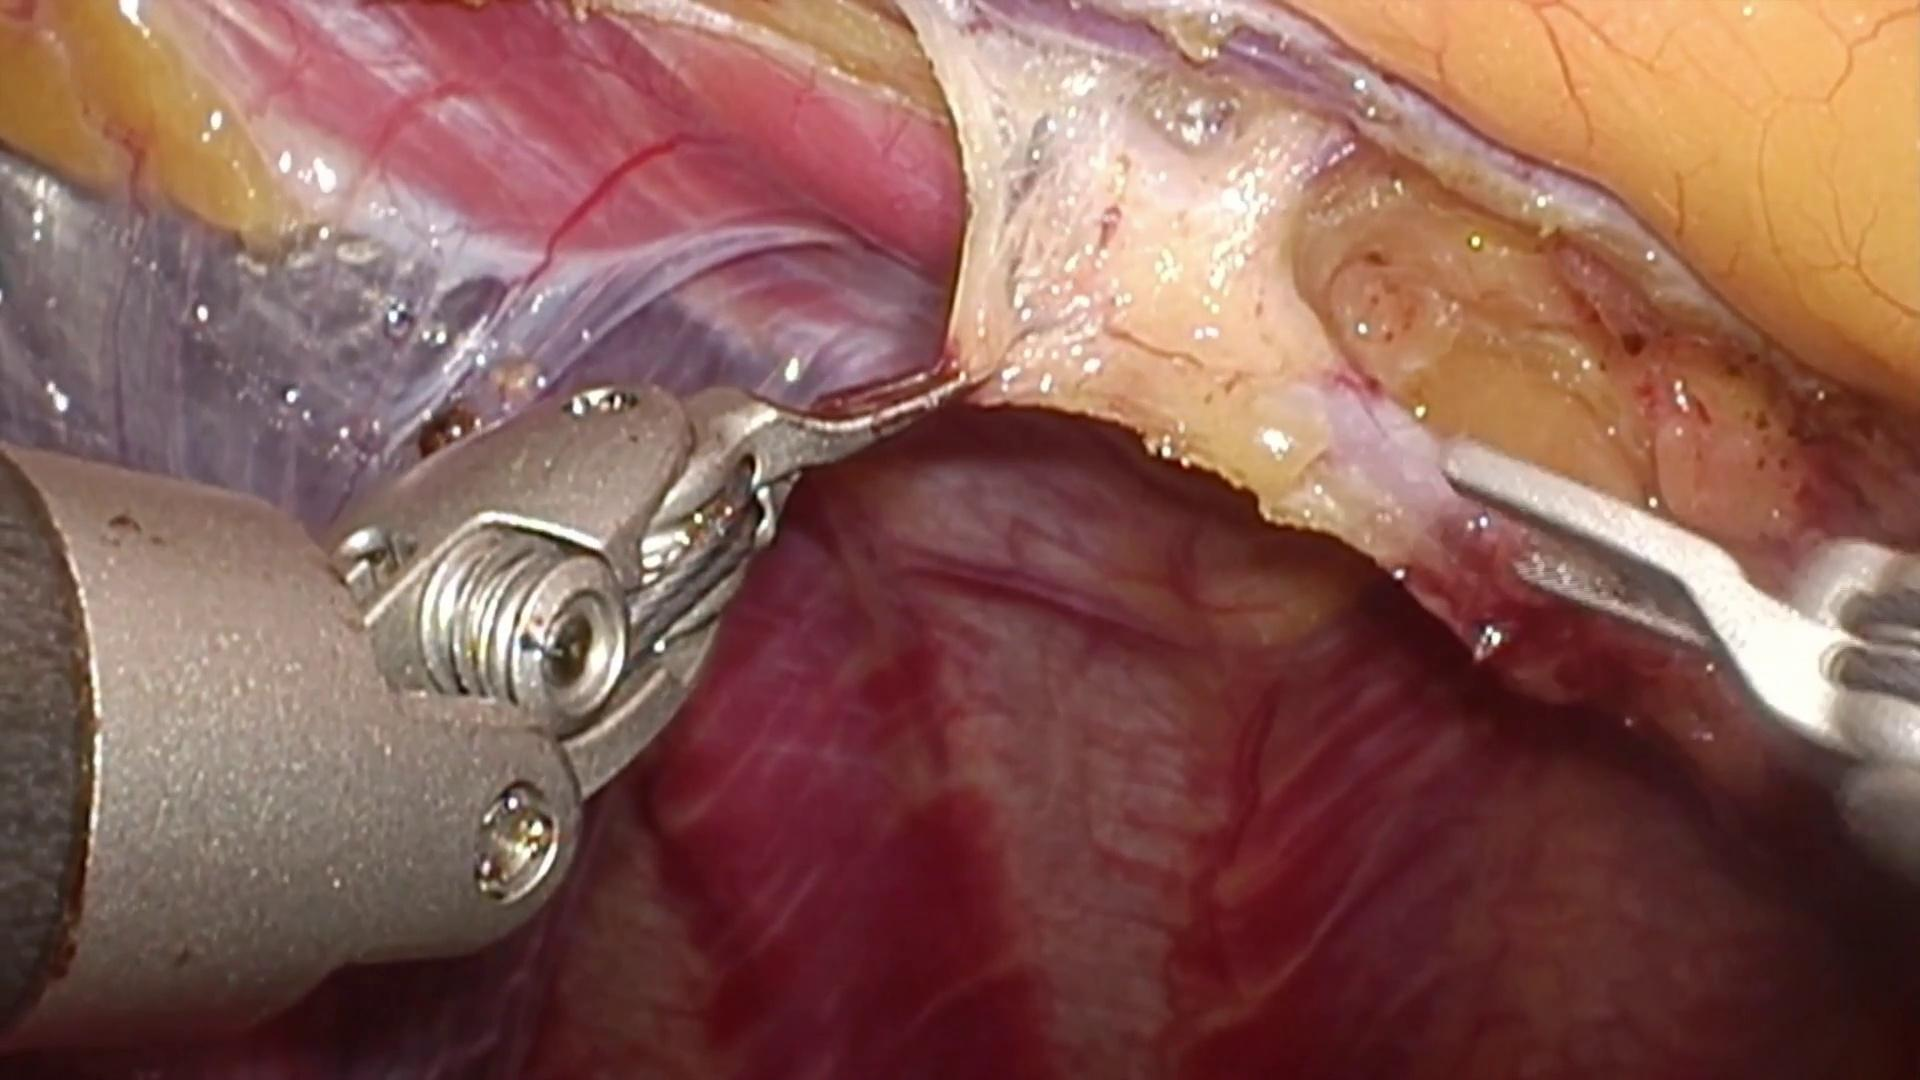Debakey: (676, 351, 989, 516)
clipper: (1443, 438, 1920, 898)
